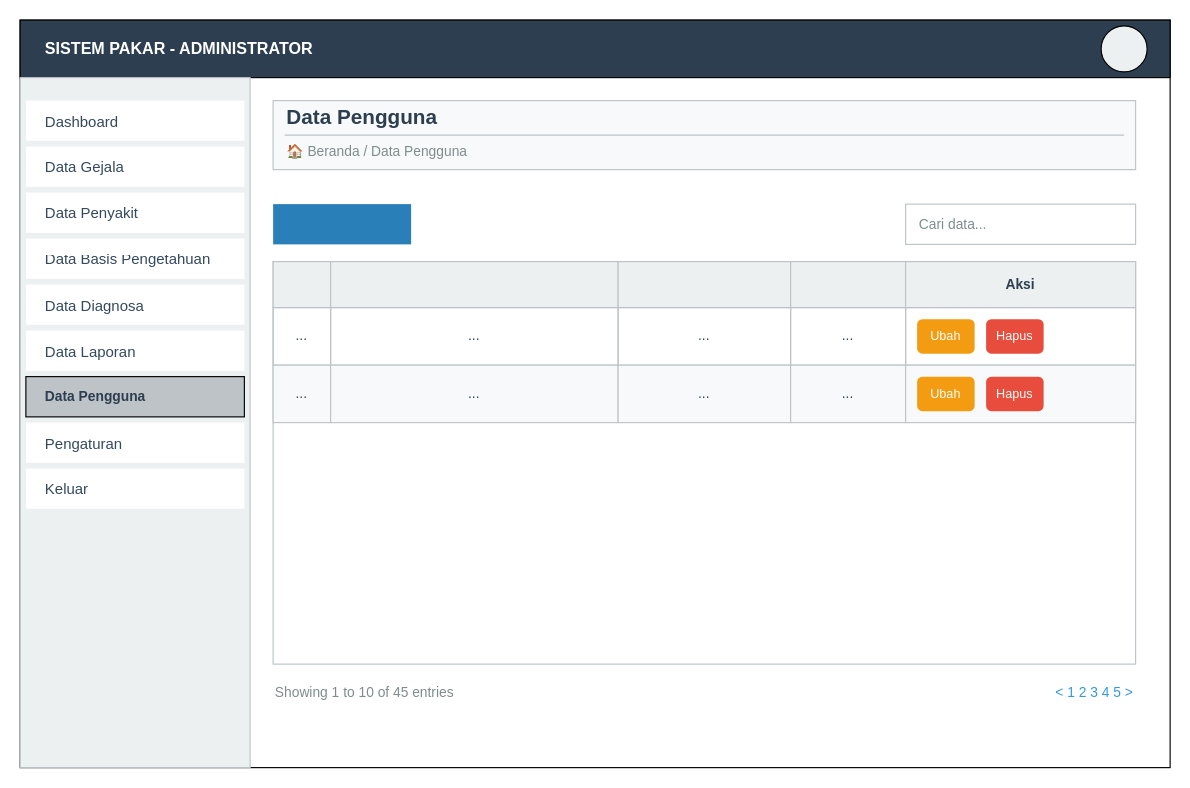
Image size: 1190x788. Some labels were removed from this diagram. The centre of each missing label's shape, as x and y in pixels:
+ Tambah Data: the point at 342,224
Admin: the point at 1123,48
Nama Lengkap: the point at 473,284
NO: the point at 301,284
Role/Level: the point at 847,284
Username: the point at 704,284
